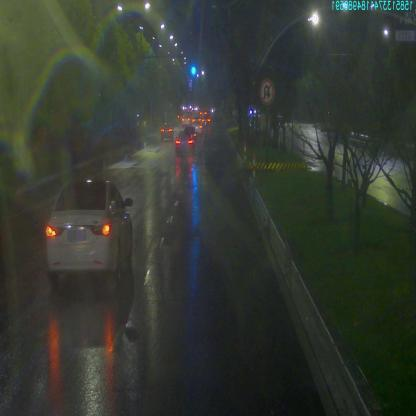traffic-light: (191, 64, 197, 80)
